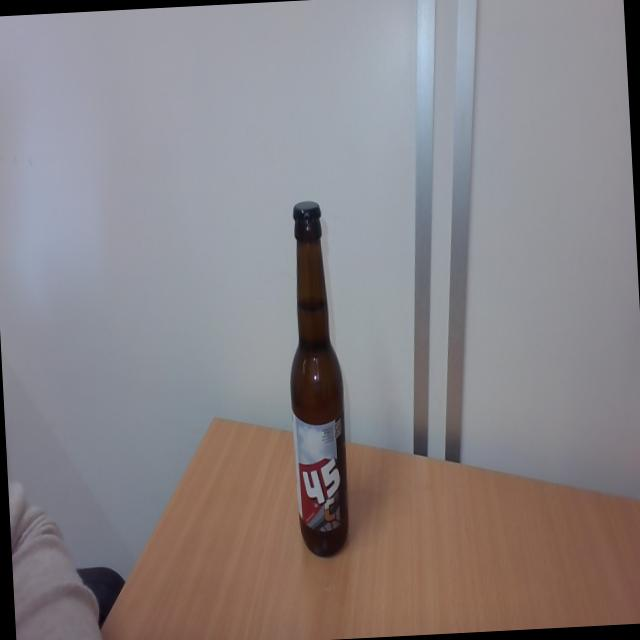Bottle: (283, 229, 354, 563)
Cap: (292, 198, 322, 228)
Label: (293, 416, 351, 534)
